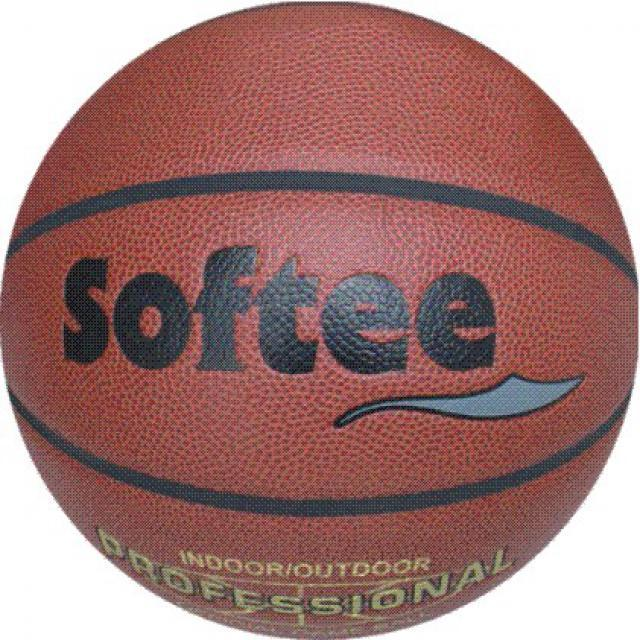basketball: (3, 0, 640, 640)
